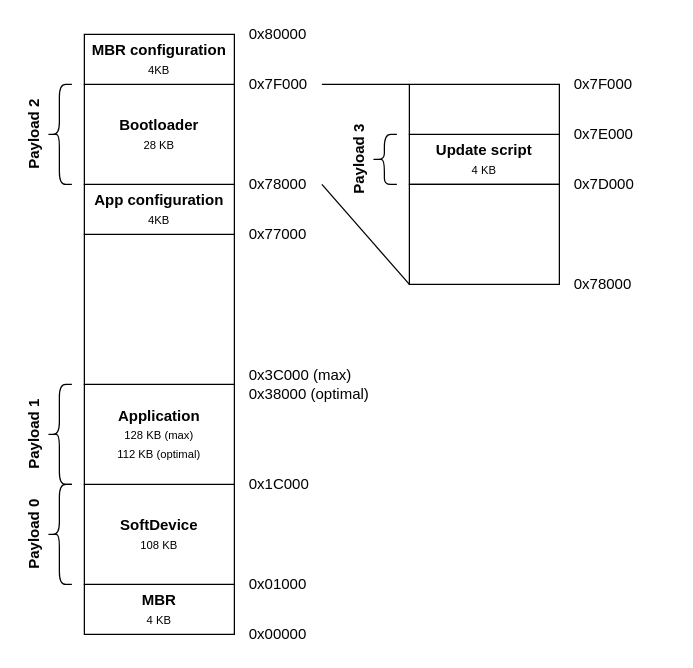
Image size: 693x668. Some labels were removed from this diagram. Each missing label, with the centre of its shape:
"Bootloader code 20 KB" goes at (x=483, y=233).
"Default script 4 KB" goes at (x=483, y=108).
"Stage Area 236 KB (min) 248 KB (optimal)" goes at (x=158, y=308).
